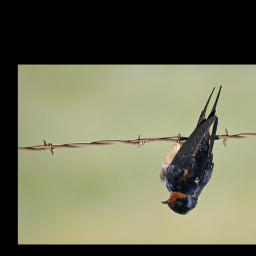Swallow: (160, 85, 225, 217)
